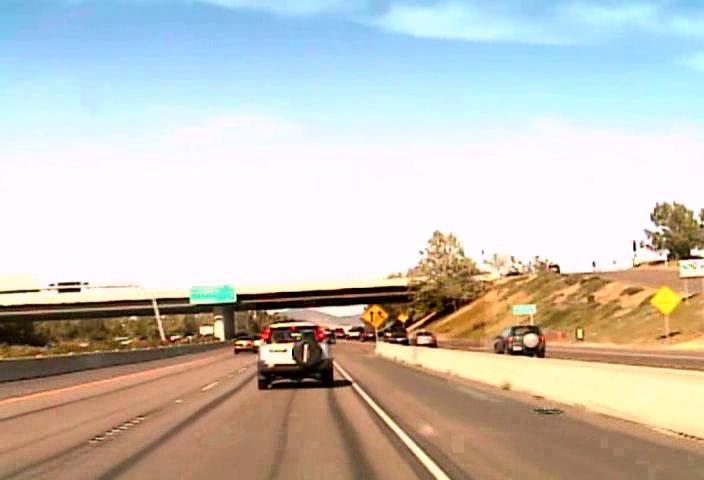addedLane: (360, 303, 389, 328)
